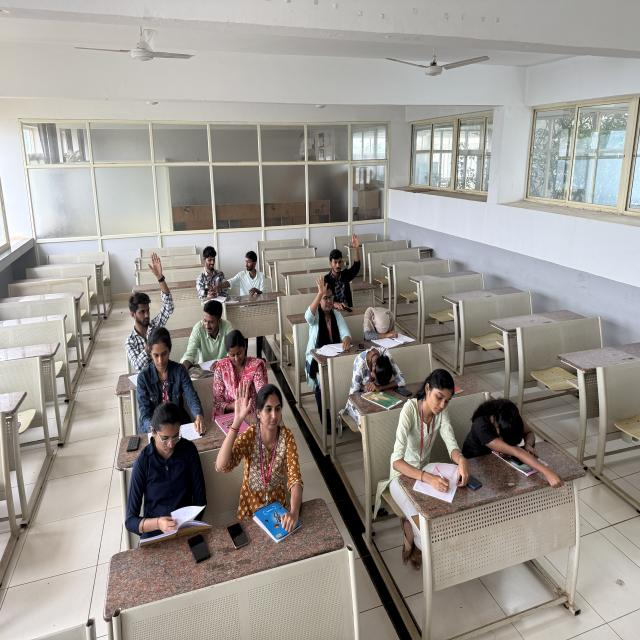Hand Rising: (216, 374, 299, 512), (124, 246, 178, 352), (299, 271, 350, 357), (327, 226, 362, 311)
Reading: (115, 399, 213, 539), (132, 330, 202, 442), (185, 297, 241, 374)
Sleeping: (466, 394, 546, 469), (343, 341, 402, 416), (359, 302, 405, 348)
Using Phone: (198, 244, 232, 305)
Writing: (382, 362, 471, 511)
